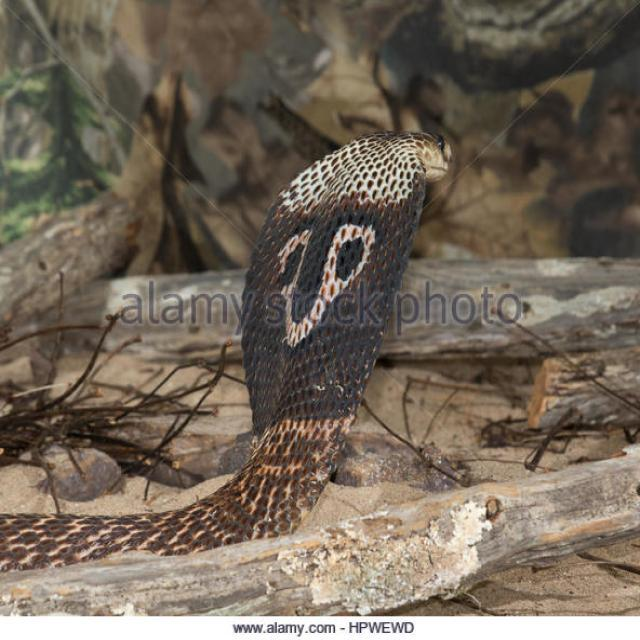Snake: (0, 127, 453, 576)
